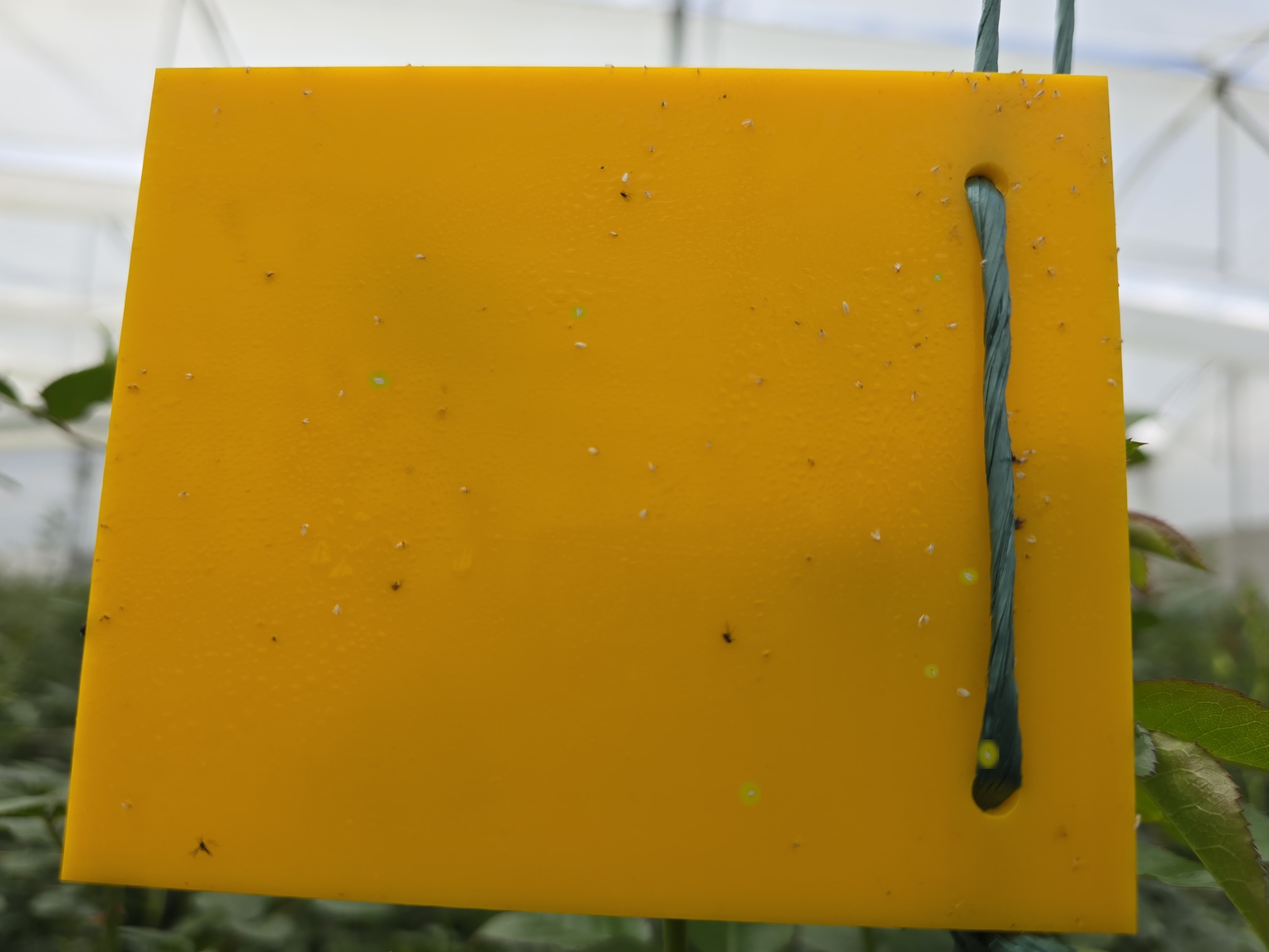WF: (979, 744, 996, 764), (741, 784, 758, 803), (956, 684, 972, 700), (330, 602, 345, 619), (297, 522, 312, 538), (916, 614, 932, 629), (370, 373, 387, 387), (839, 300, 853, 316), (868, 529, 884, 543), (573, 339, 590, 351), (923, 543, 937, 556), (587, 445, 601, 458), (961, 570, 976, 582), (394, 540, 408, 552), (638, 508, 650, 521), (460, 485, 473, 497), (1035, 76, 1047, 88), (1016, 470, 1028, 482), (892, 262, 904, 274), (1033, 89, 1046, 100), (1011, 182, 1024, 193), (646, 461, 657, 474), (572, 307, 585, 318), (1107, 377, 1118, 389), (1026, 534, 1037, 546), (930, 166, 943, 176), (945, 323, 959, 332), (184, 372, 196, 382), (608, 230, 620, 240), (1052, 89, 1062, 101), (299, 417, 312, 426), (971, 82, 981, 93), (995, 104, 1005, 115), (926, 666, 937, 676), (1024, 99, 1034, 109), (1019, 77, 1028, 88), (339, 388, 347, 400), (415, 254, 428, 261), (622, 173, 630, 184), (985, 73, 993, 83), (933, 273, 942, 281), (1101, 156, 1108, 166)
